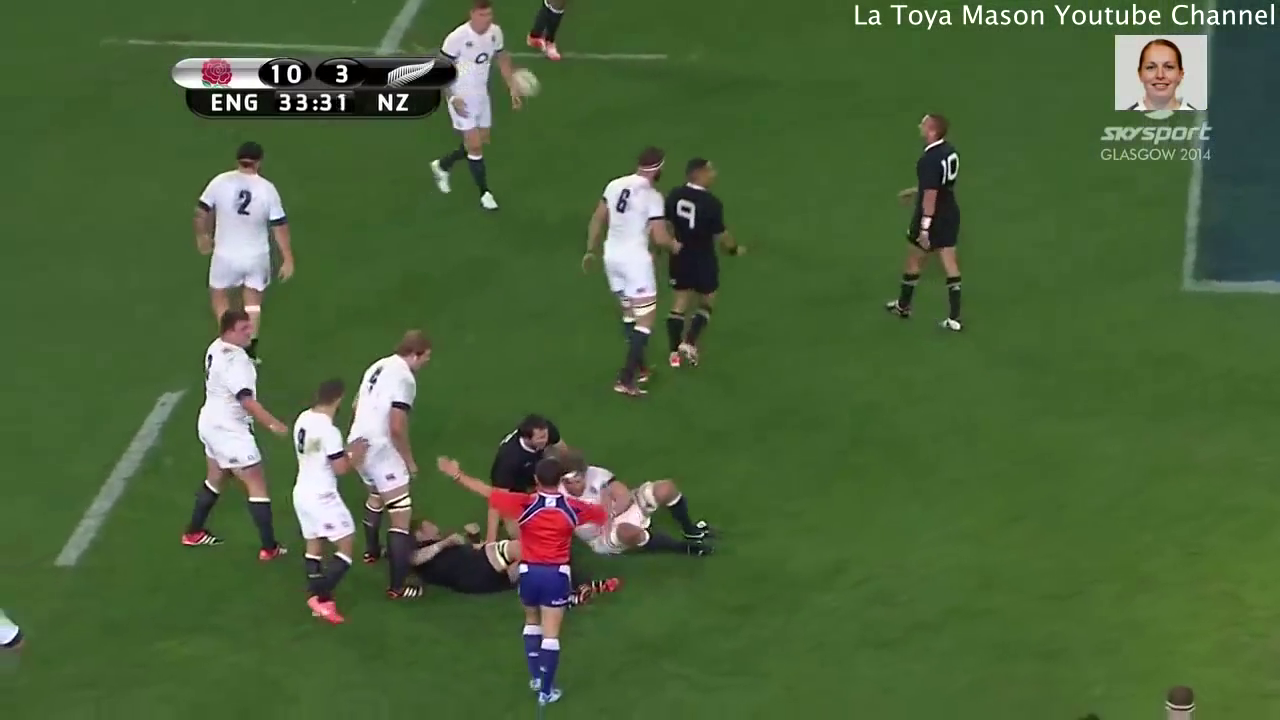ball: (501, 59, 545, 104)
player: (436, 444, 626, 719), (575, 129, 692, 403), (336, 322, 444, 611), (173, 304, 289, 567), (179, 128, 300, 376), (393, 506, 646, 620), (868, 105, 976, 339), (543, 450, 747, 572), (417, 1, 529, 220), (658, 140, 753, 373), (279, 362, 356, 638), (477, 396, 575, 540)
